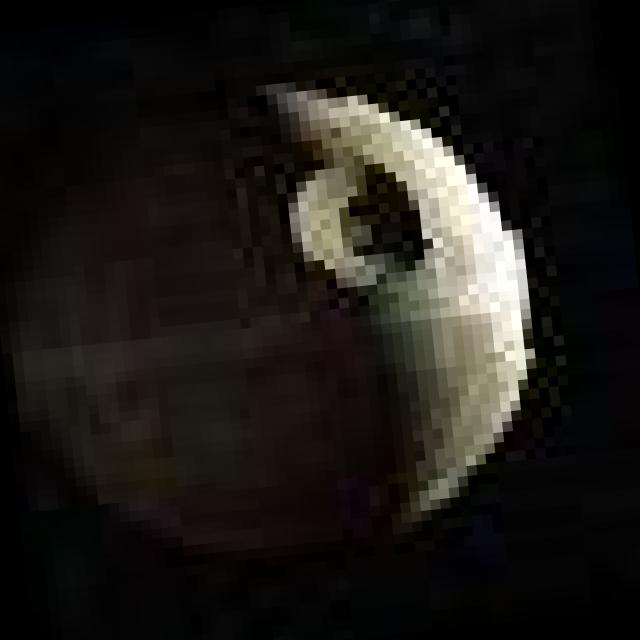Death Star: (0, 39, 568, 582)
